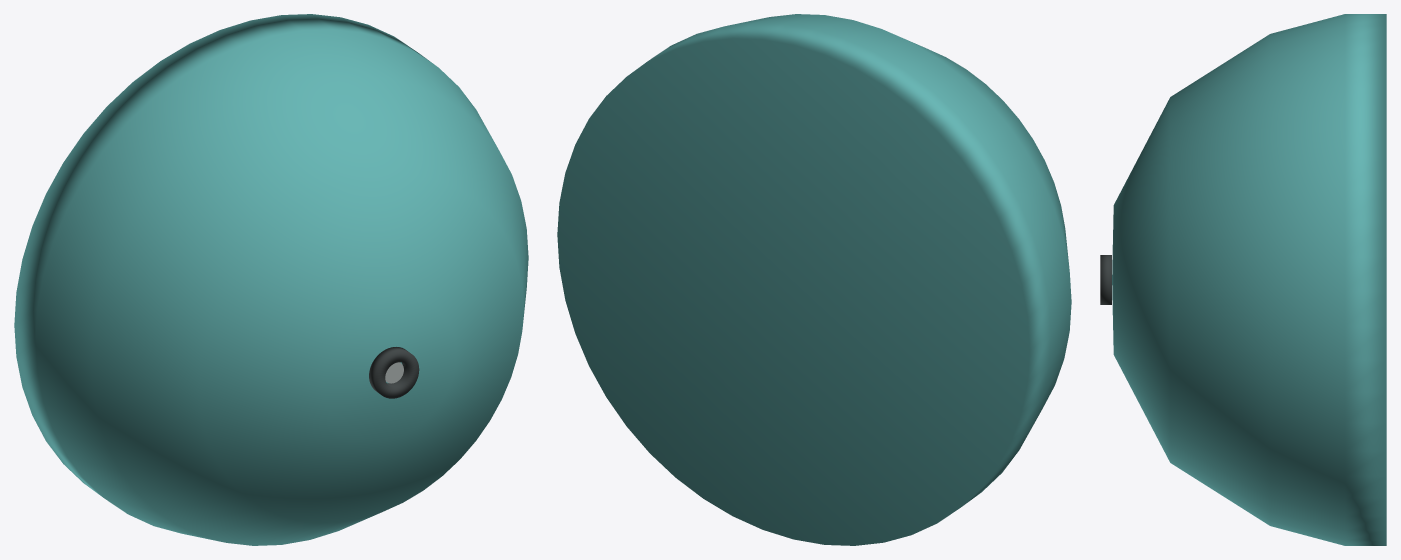
Rendered from indoor-climbing-and-bouldering-gym-indoor-climbing-and-e220df4c__31527.glb.
The picture shows the model from 3 angles, left to right: view 1: azimuth 30°, elevation 25°; view 2: azimuth 150°, elevation 25°; view 3: azimuth 270°, elevation 25°; orthographic projection. The views are drawn at different scales.
Visible parts, largest first — view 1: indoor-climbing-and-bouldering-gym-rounded-sloper-hold; view 2: indoor-climbing-and-bouldering-gym-rounded-sloper-hold; view 3: indoor-climbing-and-bouldering-gym-rounded-sloper-hold.
Boxes of the visible parts, bbox=[...] form: indoor-climbing-and-bouldering-gym-rounded-sloper-hold: bbox=[14, 14, 528, 545]; indoor-climbing-and-bouldering-gym-rounded-sloper-hold: bbox=[557, 14, 1071, 545]; indoor-climbing-and-bouldering-gym-rounded-sloper-hold: bbox=[1100, 14, 1386, 545].
Size of the model in its own units: 0.32 by 0.32 by 0.172.
